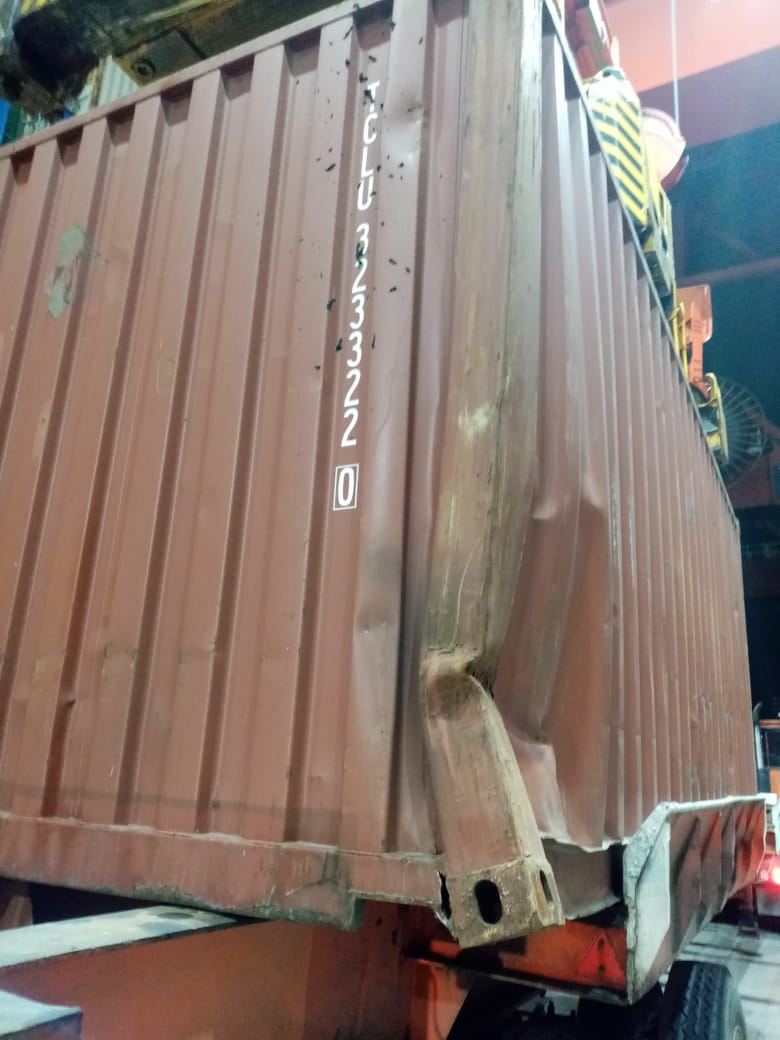front_side: (500, 27, 780, 852)
right_side: (1, 1, 456, 913)
